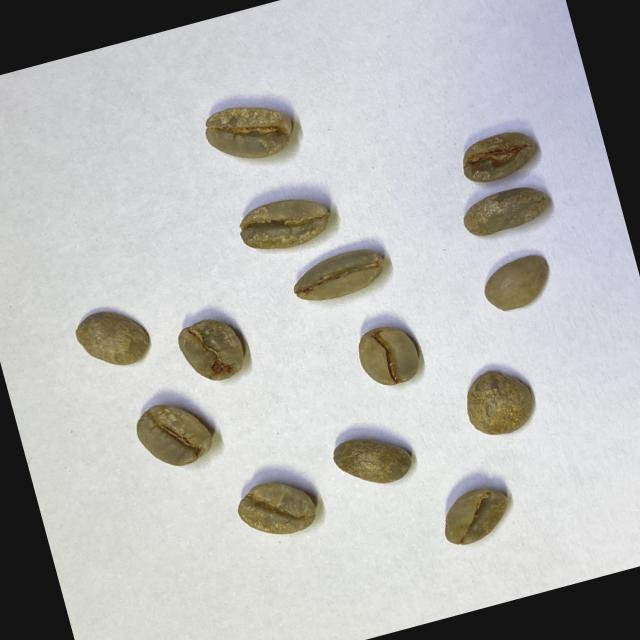bad: (172, 310, 255, 390), (454, 122, 544, 188)
good: (199, 90, 299, 171), (456, 359, 542, 443), (130, 393, 217, 475), (232, 468, 322, 546), (234, 188, 334, 258), (68, 299, 154, 378), (287, 244, 392, 308), (328, 424, 416, 496), (458, 179, 556, 242), (350, 318, 428, 394), (434, 480, 517, 550), (477, 250, 557, 318)
